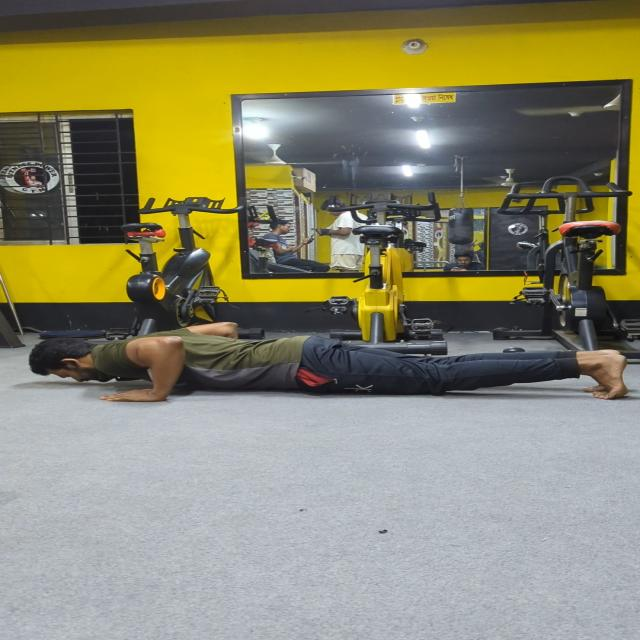Normal_PushUps: (10, 284, 640, 446)
